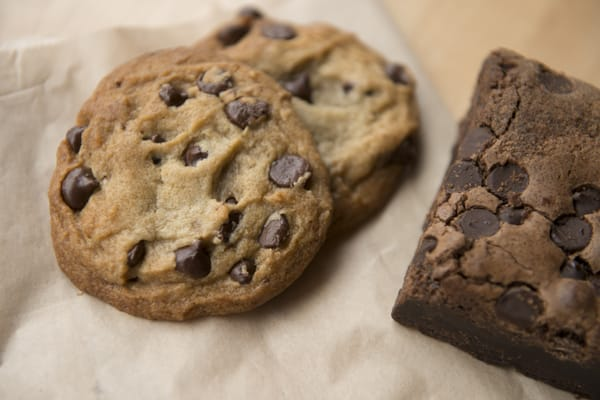sushi: (391, 46, 600, 394)
